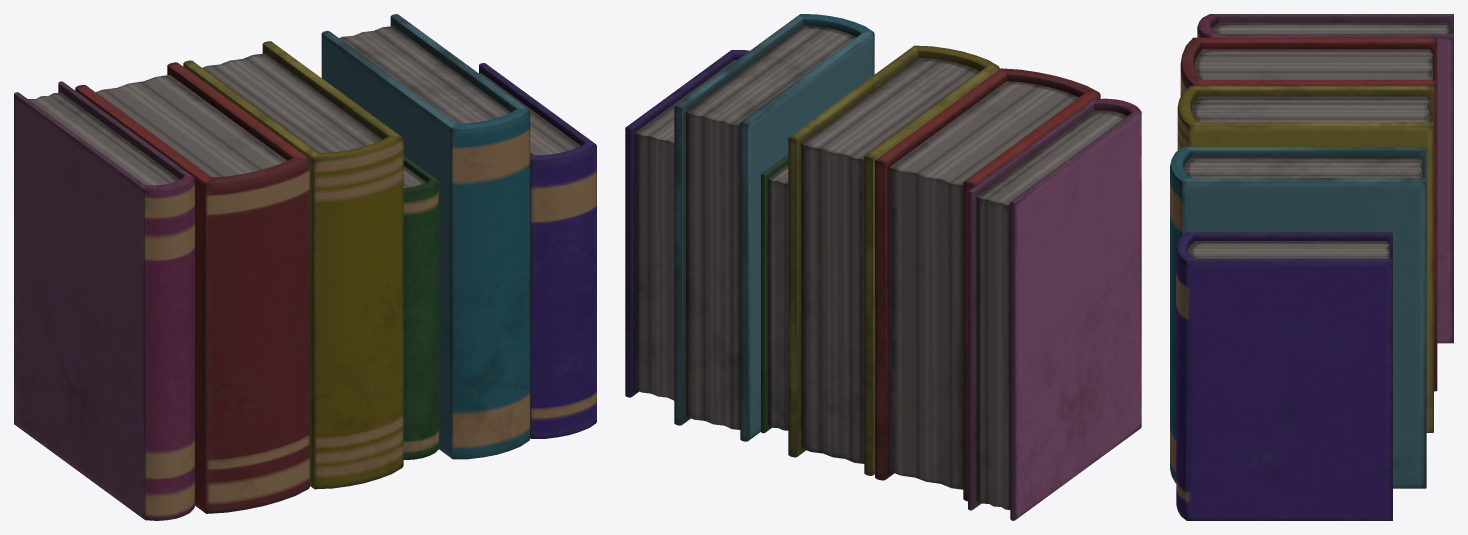
The model's file is Books_V6.fbx.
3 renders of one model, left to right at view 1: azimuth 30°, elevation 25°; view 2: azimuth 150°, elevation 25°; view 3: azimuth 270°, elevation 25°, orthographic. The views are drawn at different scales.
Visible parts, largest first — view 1: Books_v6; view 2: Books_v6; view 3: Books_v6.
Part boxes in pixels (x1=…): Books_v6: x1=14, y1=14, x2=596, y2=520; Books_v6: x1=625, y1=14, x2=1141, y2=520; Books_v6: x1=1170, y1=14, x2=1453, y2=520.
Size of the model in its own units: 98.45 by 71.21 by 59.26.
Materials: 1 (1 with a texture image).
